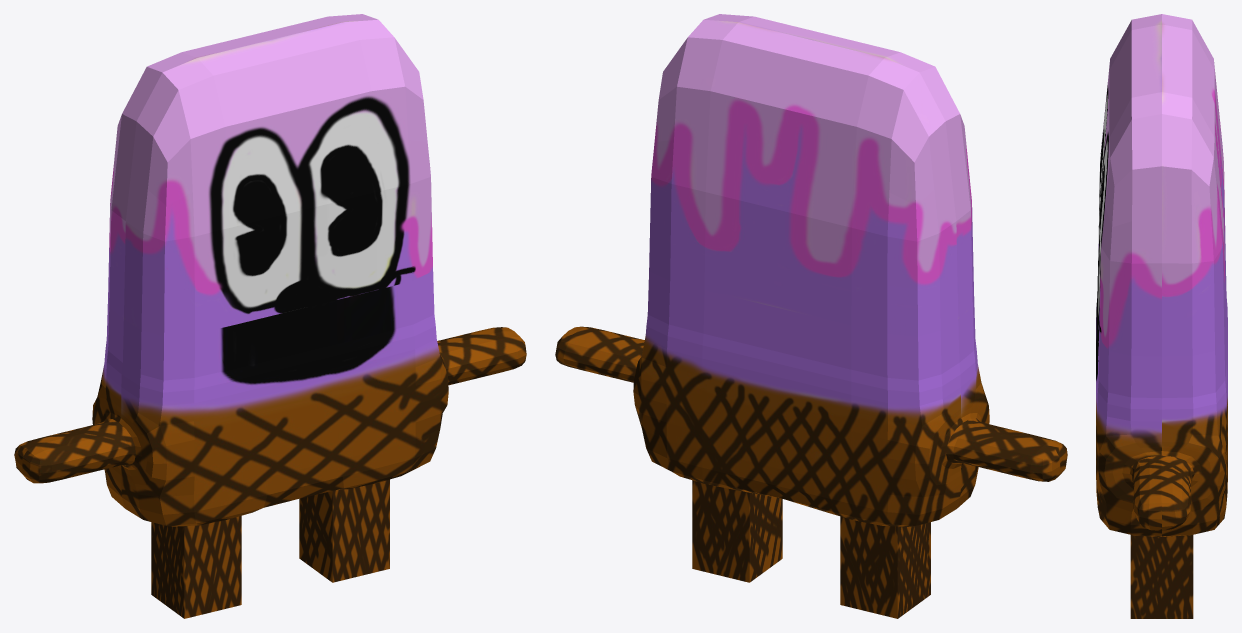
Rendered from darkModel.glb.
The picture shows the model from 3 angles, left to right: view 1: azimuth 30°, elevation 25°; view 2: azimuth 150°, elevation 25°; view 3: azimuth 270°, elevation 25°; orthographic projection. The views are drawn at different scales.
Parts seen in each view (by area): view 1: Paleta de hielo.001; view 2: Paleta de hielo.001; view 3: Paleta de hielo.001.
Part boxes in pixels (x1=…): Paleta de hielo.001: x1=14, y1=14, x2=526, y2=618; Paleta de hielo.001: x1=555, y1=14, x2=1067, y2=618; Paleta de hielo.001: x1=1096, y1=14, x2=1227, y2=618.
Size of the model in its own units: 1.08 by 1.13 by 0.262.
Materials: 1 (1 with a texture image).
